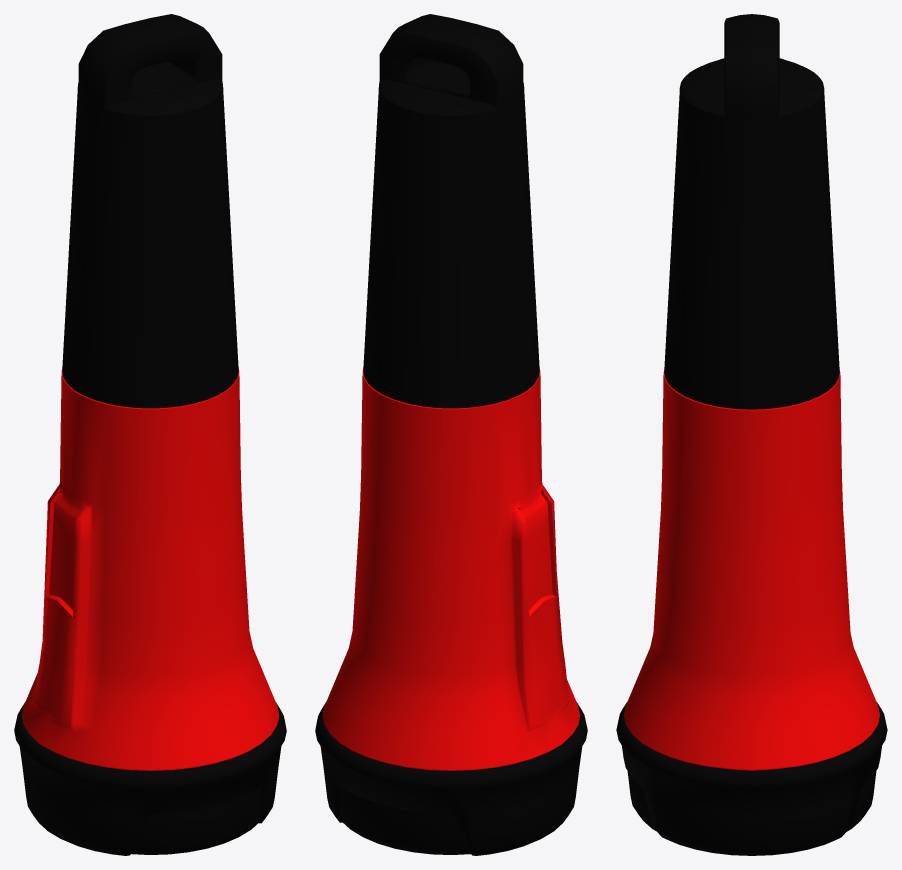
The model's file is Lampara_TNG_Moises.FBX.
3 views of the same model, side by side, from view 1: azimuth 30°, elevation 25°; view 2: azimuth 150°, elevation 25°; view 3: azimuth 270°, elevation 25° (orthographic).
Visible parts, largest first — view 1: G_Carcasa; view 2: G_Carcasa; view 3: G_Carcasa.
Part boxes in pixels (x1,y1,x2,y2): G_Carcasa: [14, 14, 286, 855]; G_Carcasa: [315, 14, 587, 855]; G_Carcasa: [616, 14, 887, 855].
Bounding box in the file's own units: 0.3016 × 0.9571 × 0.3022.
